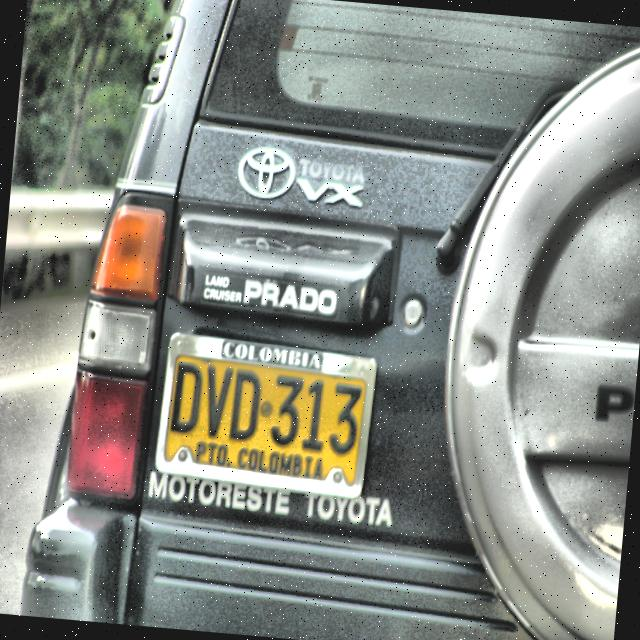1: (300, 375, 328, 455)
3: (326, 377, 364, 457), (269, 372, 305, 450)
D: (228, 366, 262, 443), (170, 360, 204, 434)
V: (200, 363, 234, 439)
